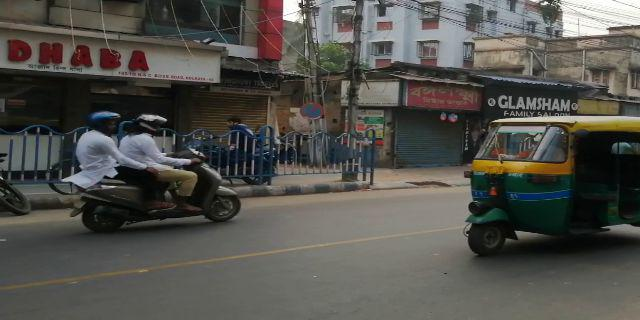Autorickshaw: (464, 117, 624, 250)
Motorbike: (73, 111, 238, 230)
